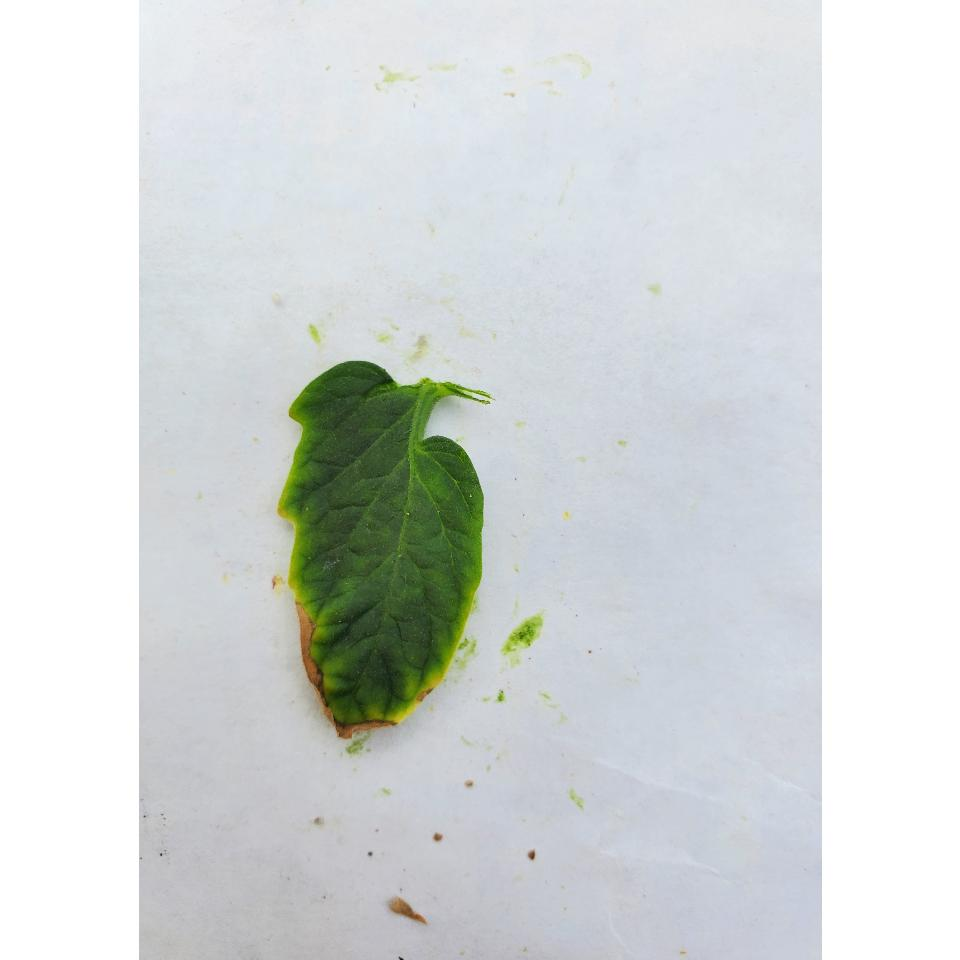tomato_bacterial_blight: (278, 363, 488, 747)
